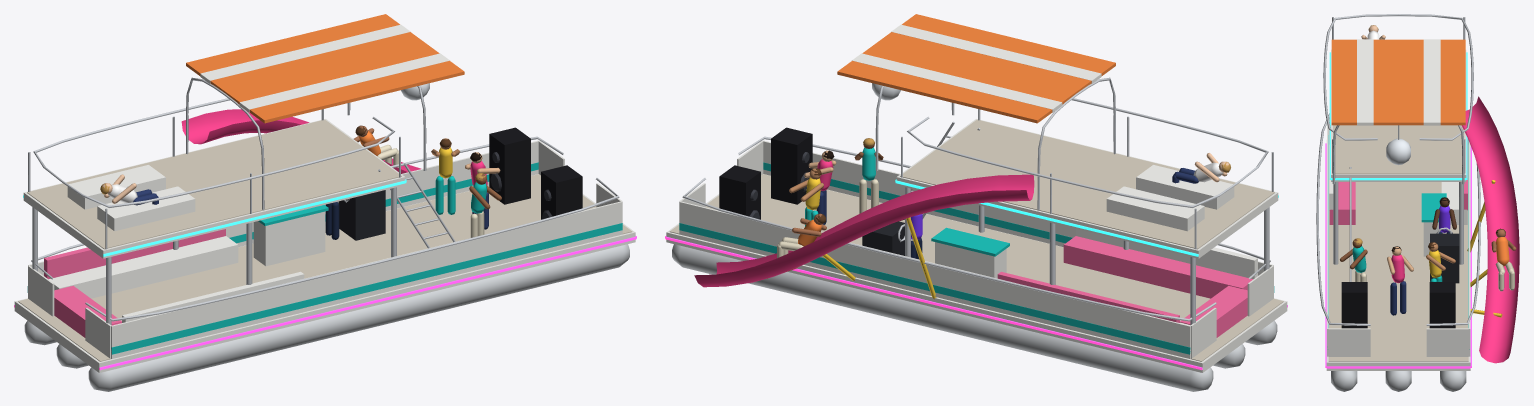
The model's file is party-boat.glb.
The picture shows the model from 3 angles, left to right: view 1: azimuth 30°, elevation 25°; view 2: azimuth 150°, elevation 25°; view 3: azimuth 270°, elevation 25°; orthographic projection. The views are drawn at different scales.
Parts seen in each view (by area): view 1: Mesh_SunDeckTop, Mesh_RailPanelS, Mesh_DeckTop, Mesh_Bimini, Mesh_HullTube2, Mesh_Deck, Mesh_SofaP, Mesh_RailBandS, Mesh_SunDeck, Mesh_Bar, Mesh_SpeakerP, Mesh_Slide (+20 smaller); view 2: Mesh_SunDeckTop, Mesh_Bimini, Mesh_RailPanelP, Mesh_HullTube0, Mesh_DeckTop, Mesh_Slide, Mesh_Deck, Mesh_SofaS, Mesh_RailBandP, Mesh_RailPanelS, Mesh_SunDeck, Mesh_SpeakerS (+21 smaller); view 3: Mesh_DeckTop, Mesh_Bimini, Mesh_Slide, Mesh_SunDeckTop, Mesh_Deck, Mesh_BiminiStripeP, Mesh_BiminiStripeS, Mesh_SunDeckRail, Mesh_RailPanelBowS, Mesh_RailPanelBowP, Mesh_SpeakerS, Mesh_SpeakerP (+33 smaller).
Part boxes in pixels (x1=…): Mesh_SunDeckTop: x1=27, y1=119, x2=401, y2=249; Mesh_RailPanelS: x1=111, y1=201, x2=622, y2=358; Mesh_DeckTop: x1=18, y1=174, x2=632, y2=361; Mesh_Bimini: x1=186, y1=14, x2=464, y2=123; Mesh_HullTube2: x1=88, y1=244, x2=629, y2=391; Mesh_Deck: x1=14, y1=174, x2=635, y2=372; Mesh_SofaP: x1=49, y1=236, x2=238, y2=298; Mesh_RailBandS: x1=111, y1=223, x2=622, y2=354; Mesh_SunDeck: x1=23, y1=119, x2=405, y2=258; Mesh_Bar: x1=253, y1=211, x2=325, y2=266; Mesh_SpeakerP: x1=489, y1=127, x2=530, y2=204; Mesh_Slide: x1=181, y1=109, x2=421, y2=173; Mesh_SunDeckTop: x1=900, y1=119, x2=1274, y2=249; Mesh_Bimini: x1=837, y1=14, x2=1115, y2=123; Mesh_RailPanelP: x1=679, y1=201, x2=1190, y2=358; Mesh_HullTube0: x1=672, y1=244, x2=1213, y2=391; Mesh_DeckTop: x1=669, y1=174, x2=1283, y2=361; Mesh_Slide: x1=694, y1=174, x2=1034, y2=287; Mesh_Deck: x1=666, y1=174, x2=1287, y2=372; Mesh_SofaS: x1=1063, y1=236, x2=1252, y2=298; Mesh_RailBandP: x1=679, y1=223, x2=1190, y2=354; Mesh_RailPanelS: x1=762, y1=140, x2=1273, y2=275; Mesh_SunDeck: x1=896, y1=119, x2=1278, y2=258; Mesh_SpeakerS: x1=771, y1=127, x2=812, y2=204; Mesh_DeckTop: x1=1328, y1=145, x2=1468, y2=361; Mesh_Bimini: x1=1331, y1=39, x2=1465, y2=125; Mesh_Slide: x1=1461, y1=96, x2=1519, y2=363; Mesh_SunDeckTop: x1=1333, y1=125, x2=1464, y2=174; Mesh_Deck: x1=1326, y1=140, x2=1470, y2=370; Mesh_BiminiStripeP: x1=1423, y1=39, x2=1440, y2=125; Mesh_BiminiStripeS: x1=1357, y1=39, x2=1373, y2=125; Mesh_SunDeckRail: x1=1323, y1=14, x2=1473, y2=140; Mesh_RailPanelBowS: x1=1328, y1=328, x2=1370, y2=356; Mesh_RailPanelBowP: x1=1426, y1=328, x2=1468, y2=356; Mesh_SpeakerS: x1=1341, y1=282, x2=1367, y2=328; Mesh_SpeakerP: x1=1429, y1=282, x2=1455, y2=328.
Bounding box in the file's own units: 12.68 × 5.37 × 4.85.
